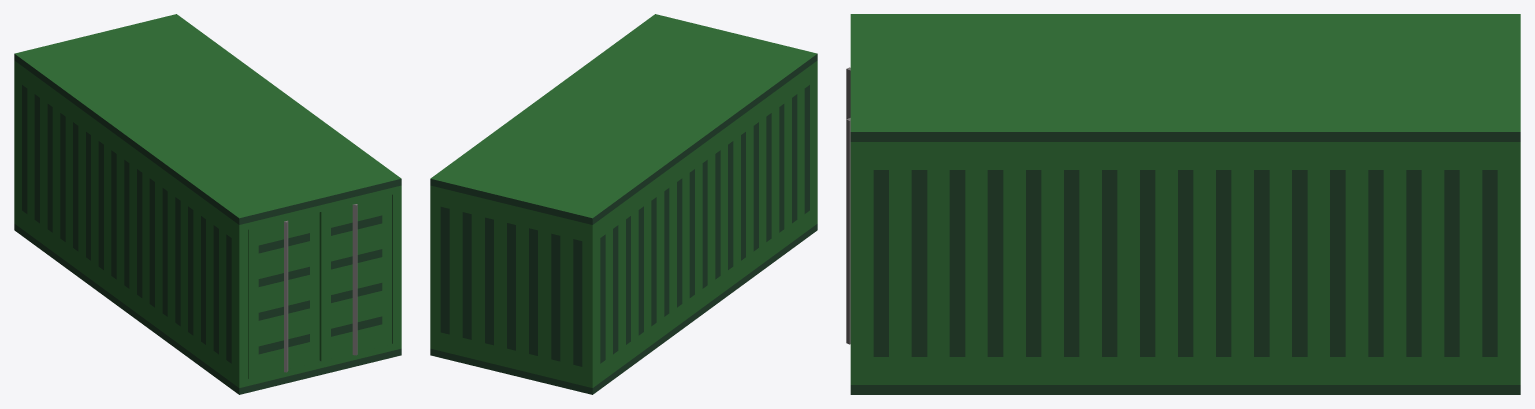
The model's file is cargo-shipping_green.glb.
3 views of the same model, side by side, from view 1: azimuth 30°, elevation 25°; view 2: azimuth 150°, elevation 25°; view 3: azimuth 270°, elevation 25° (orthographic). The views are drawn at different scales.
Parts seen in each view (by area): view 1: cargo-shipping-base_green, cargo-shipping-door_L_green, cargo-shipping-door_R_green; view 2: cargo-shipping-base_green; view 3: cargo-shipping-base_green, cargo-shipping-door_L_green.
Boxes of the visible parts, x1,y1,x2,y2 form: cargo-shipping-base_green: (14,14,401,394); cargo-shipping-door_L_green: (319,194,391,361); cargo-shipping-door_R_green: (248,212,319,378); cargo-shipping-base_green: (430,14,817,394); cargo-shipping-base_green: (850,14,1520,394); cargo-shipping-door_L_green: (846,118,850,344).
Size of the model in its own units: 2.5 by 2.6 by 6.04.
Materials: 1 (1 with a texture image).
